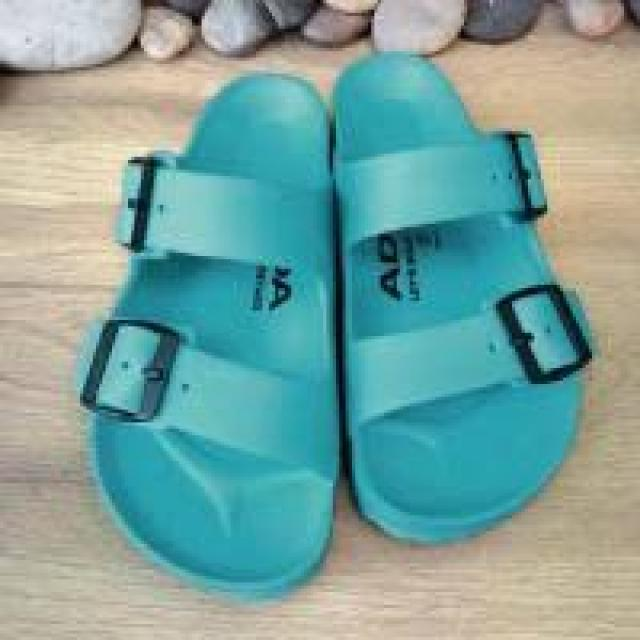shoe: (75, 50, 588, 611), (76, 70, 336, 578), (333, 52, 589, 548)
